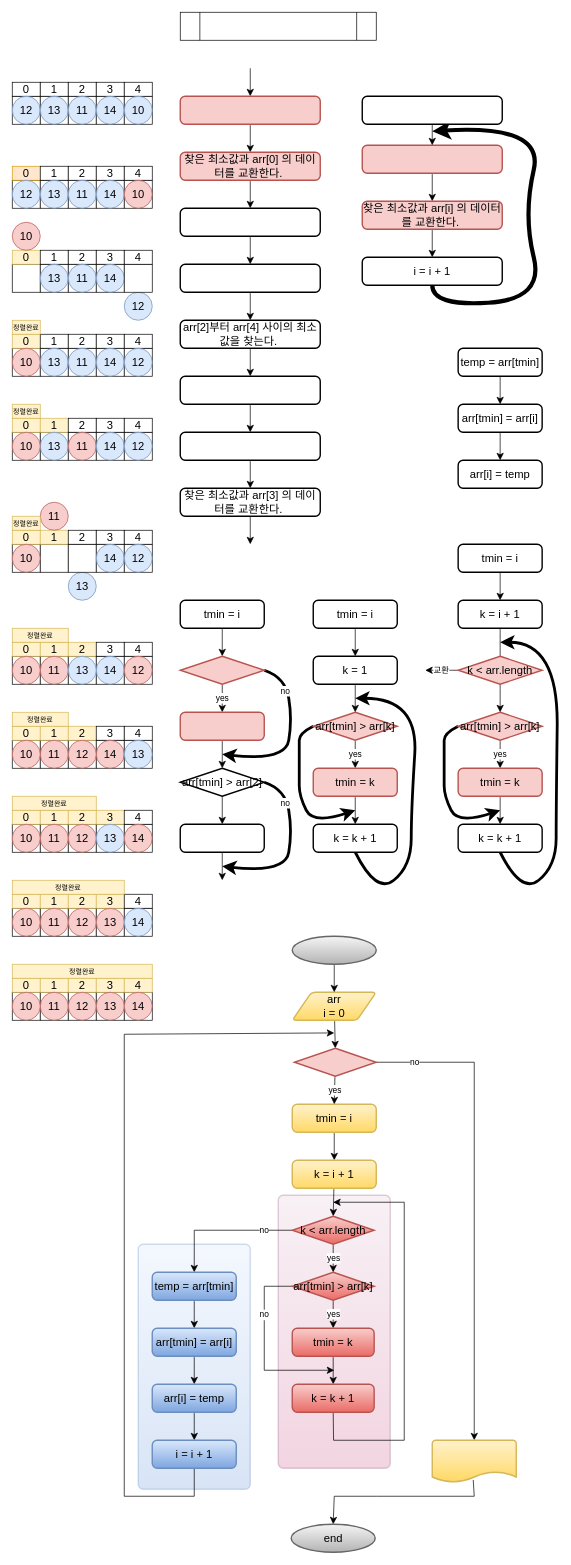
Some shapes in this 571 by 1565 pixel diagram are drawn without their labels. Each missing label, with the box of its shape:
arr: (431, 1439, 517, 1483)
arr[0]부터 arr[4] 사이의 최소값을 찾는다.: (179, 95, 321, 125)
arr[1]부터 arr[4] 사이의 최소값을 찾는다.: (179, 207, 321, 237)
arr[3]부터 arr[4] 사이의 최소값을 찾는다.: (179, 431, 321, 461)
arr[i]부터 arr[4] 사이의 최소값을 찾는다.: (361, 144, 503, 174)
arr[tmin] > arr[1]: (179, 655, 265, 685)
i < arr.length: (293, 1047, 377, 1077)
i = 0: (361, 95, 503, 125)
Selection Sort: (180, 12, 376, 40)
start: (291, 935, 377, 965)
tmin = 1: (179, 711, 265, 741)
tmin = 2: (179, 823, 265, 853)
찾은 최소값과 arr[1] 의 데이터를 교환한다.: (179, 263, 321, 293)
찾은 최소값과 arr[2] 의 데이터를 교환한다.: (179, 375, 321, 405)
